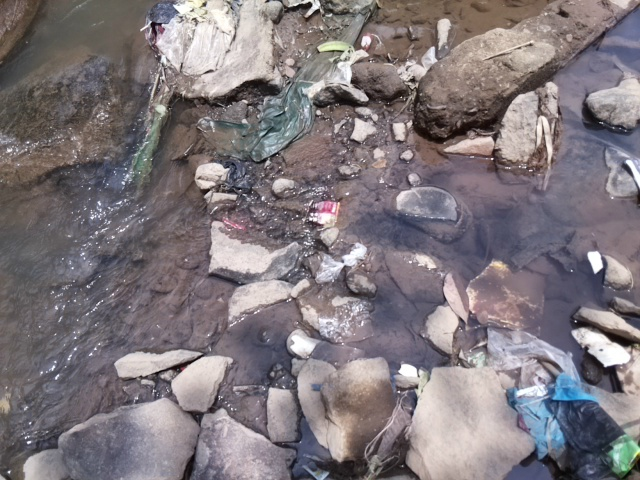Sampah_Plastik: (479, 328, 640, 479), (303, 198, 341, 224)
